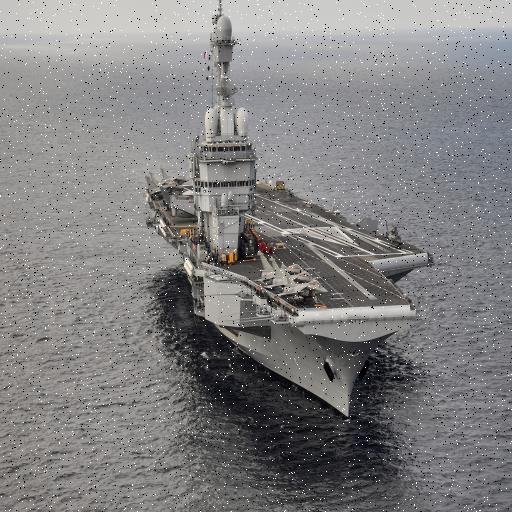Portanaves: (142, 1, 436, 432)
